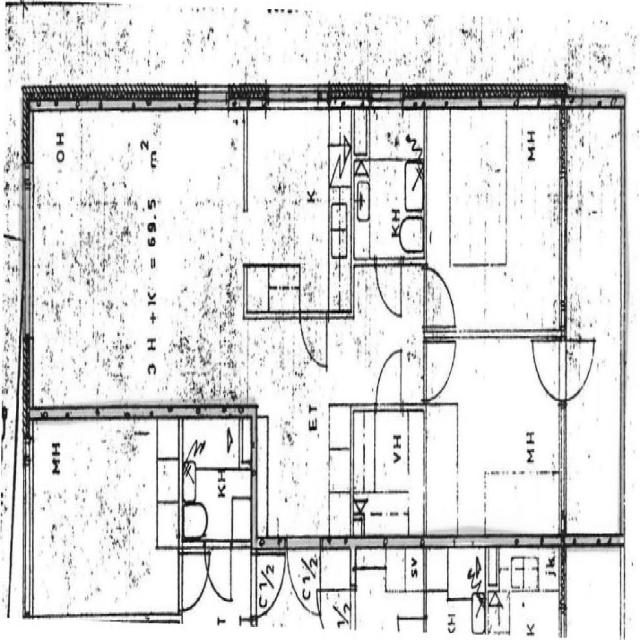door: (285, 541, 320, 618), (321, 553, 354, 628), (252, 548, 286, 620), (424, 331, 457, 402), (178, 540, 208, 616), (205, 537, 235, 606), (531, 335, 562, 399), (563, 338, 595, 399), (374, 345, 404, 410), (424, 269, 456, 328), (374, 259, 404, 320), (300, 310, 328, 370)
window: (268, 88, 320, 113), (556, 402, 569, 490), (195, 83, 230, 113)
zone: (26, 102, 244, 414), (25, 413, 177, 619), (426, 109, 562, 339), (425, 332, 563, 539), (245, 107, 351, 311), (564, 108, 623, 336), (330, 404, 424, 534), (351, 106, 426, 262), (180, 412, 252, 540), (564, 544, 623, 640)
